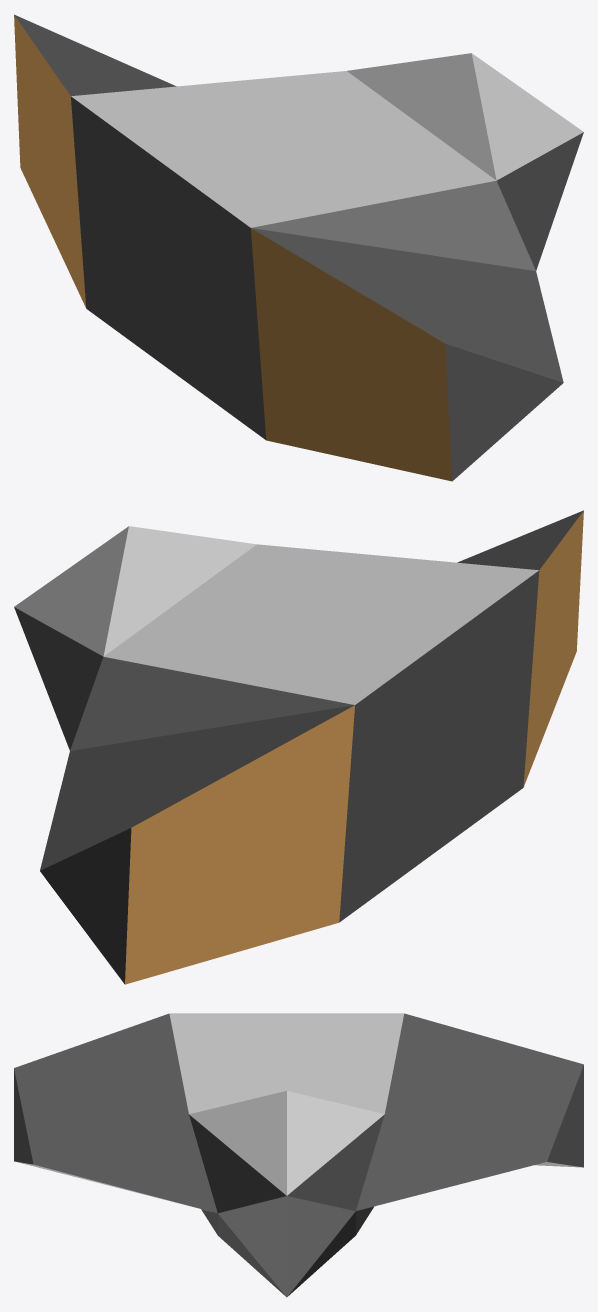
Rendered from SpaceShip.fbx.
3 views of the same model, one above another, from view 1: azimuth 30°, elevation 25°; view 2: azimuth 150°, elevation 25°; view 3: azimuth 270°, elevation 25° (orthographic). The views are drawn at different scales.
Visible parts, largest first — view 1: SpaceShip:Mesh; view 2: SpaceShip:Mesh; view 3: SpaceShip:Mesh.
Boxes of the visible parts, box(x1,y1,x2,y2) form: SpaceShip:Mesh: box(14, 14, 583, 481); SpaceShip:Mesh: box(14, 510, 583, 984); SpaceShip:Mesh: box(14, 1013, 583, 1297).
Size of the model in its own units: 2.71 by 1.95 by 4.85.
